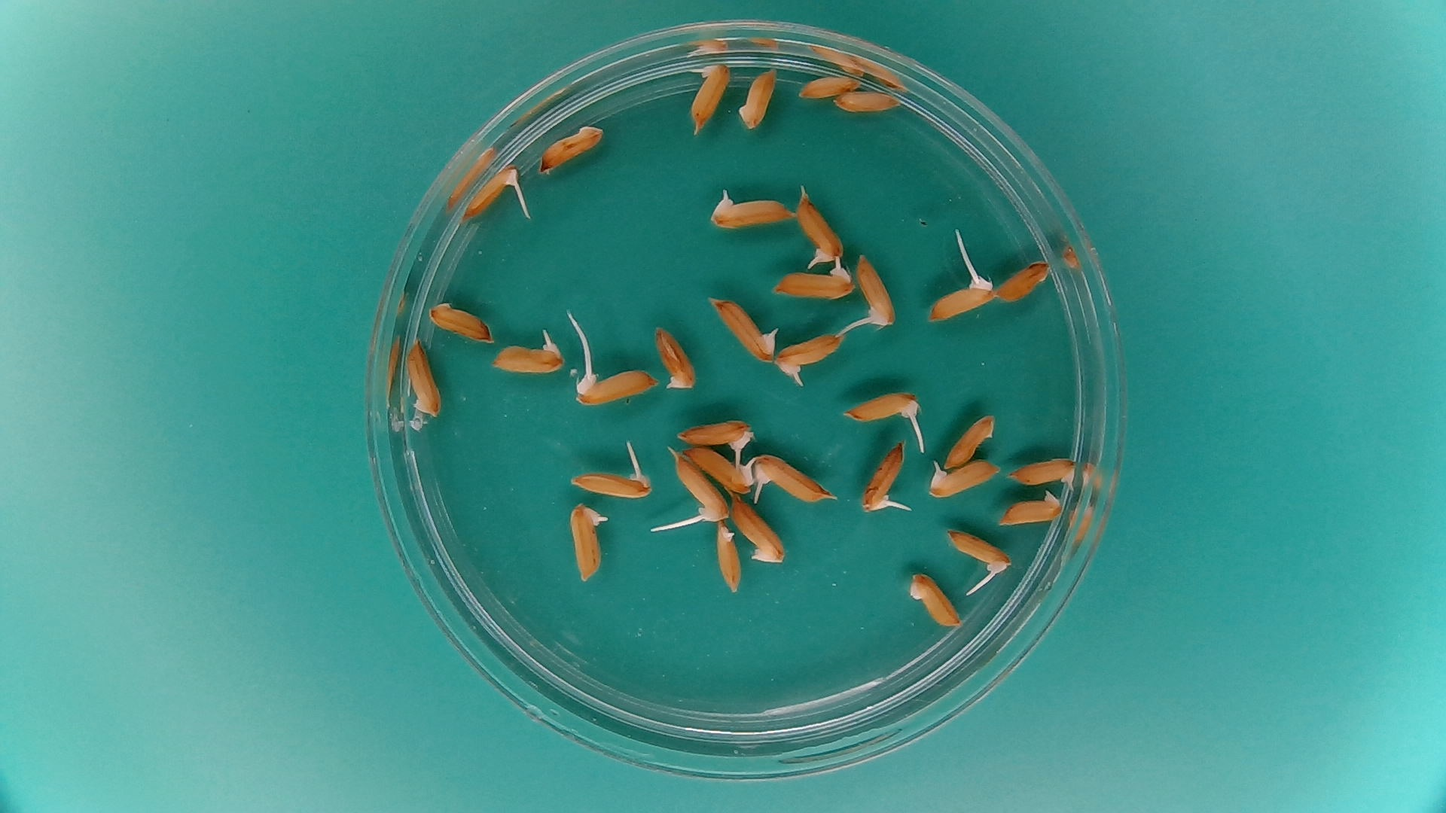no: (729, 492, 790, 565), (905, 569, 965, 632), (537, 121, 606, 174), (401, 335, 444, 419), (426, 297, 497, 344), (653, 322, 699, 392), (945, 410, 997, 467), (737, 65, 778, 130), (998, 487, 1066, 526), (995, 257, 1052, 303), (714, 519, 746, 597), (831, 85, 904, 114), (798, 69, 863, 99)
yes: (710, 297, 779, 363), (677, 443, 755, 495), (706, 186, 798, 230), (668, 456, 731, 520), (750, 456, 828, 506), (794, 190, 842, 268), (837, 387, 924, 430), (854, 249, 898, 330), (859, 438, 908, 510), (769, 261, 857, 300), (461, 163, 520, 221), (926, 458, 1002, 501), (577, 367, 660, 406), (673, 414, 755, 453), (567, 504, 606, 586), (941, 528, 1012, 573), (773, 329, 840, 376), (926, 278, 996, 321), (690, 60, 733, 130), (566, 466, 646, 500), (490, 338, 561, 374), (1004, 455, 1079, 489)
